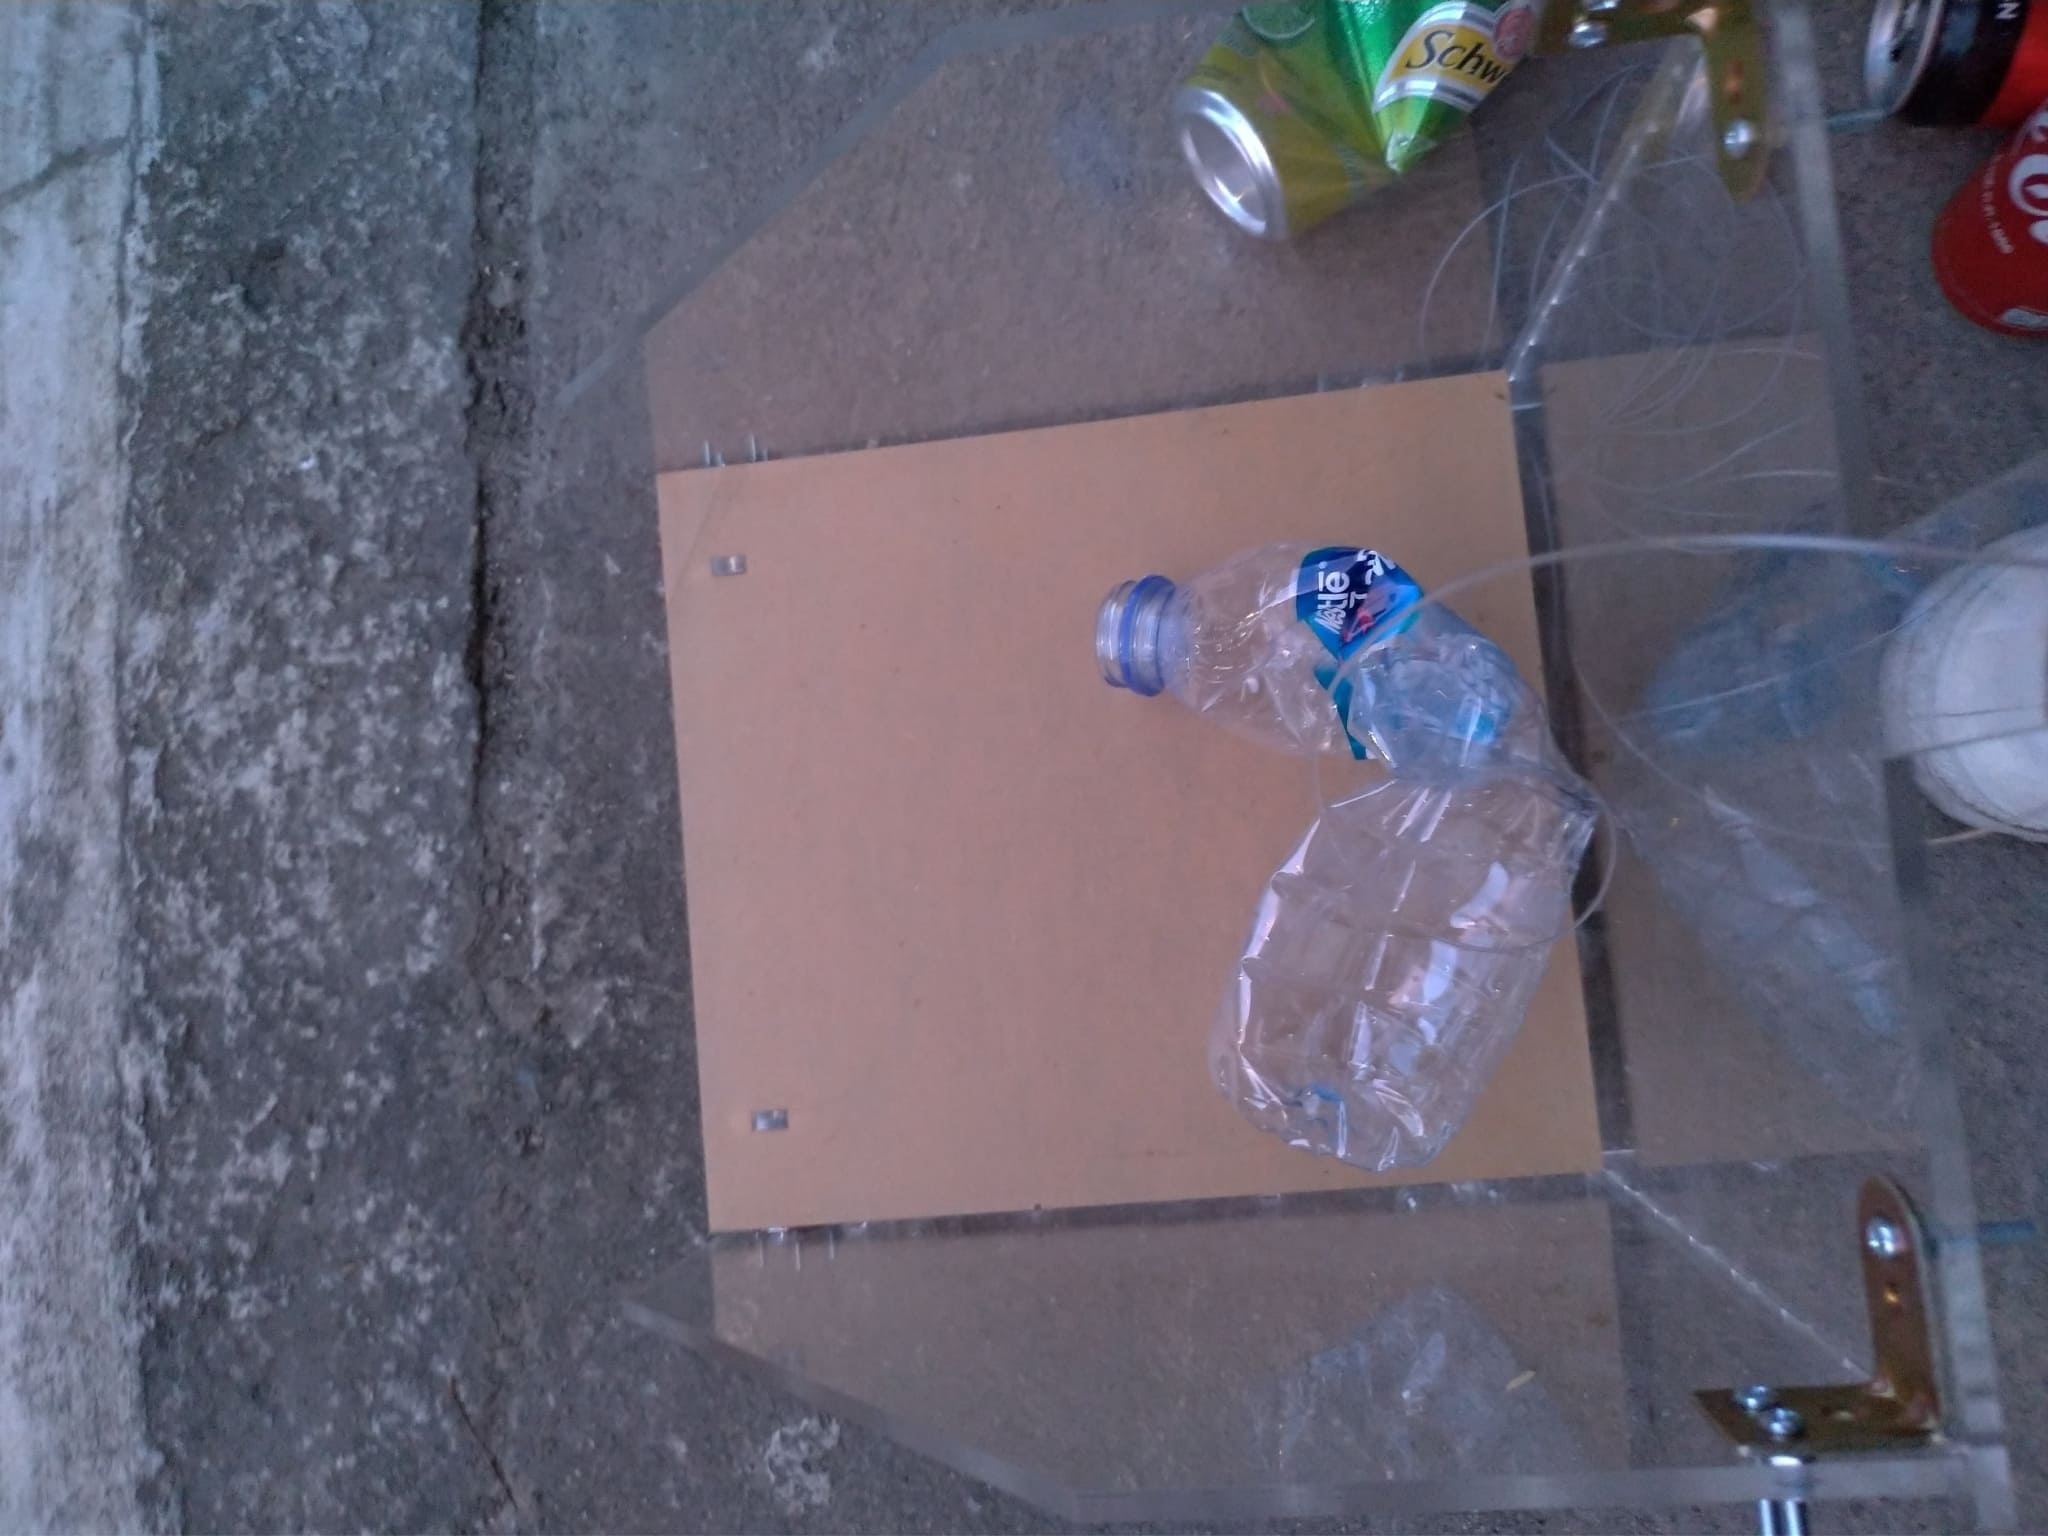AlCan: (1171, 3, 1543, 248), (1929, 118, 2048, 336), (1859, 2, 2048, 136)
PlasticBottle: (1101, 541, 1605, 1176)
